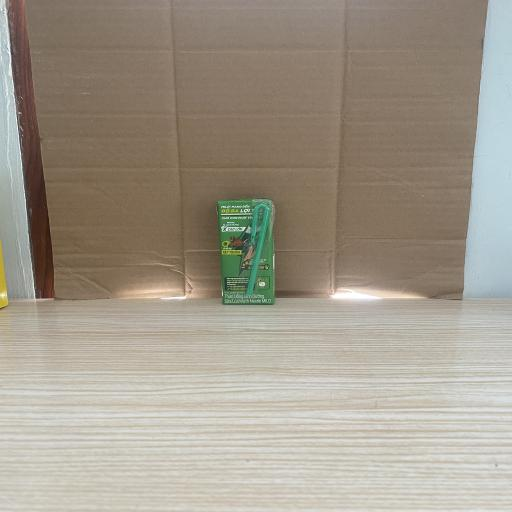milo: (217, 198, 275, 305)
